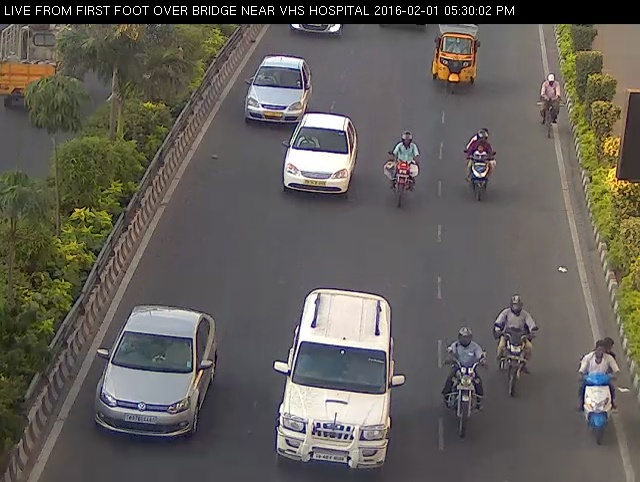Auto: (428, 16, 483, 98)
Car: (260, 282, 416, 473), (83, 290, 229, 449), (279, 100, 360, 214), (236, 49, 322, 135), (284, 16, 347, 37), (376, 17, 433, 36)
Person: (566, 324, 627, 451), (437, 321, 492, 445), (485, 293, 543, 404), (379, 124, 428, 216), (459, 114, 502, 213)
